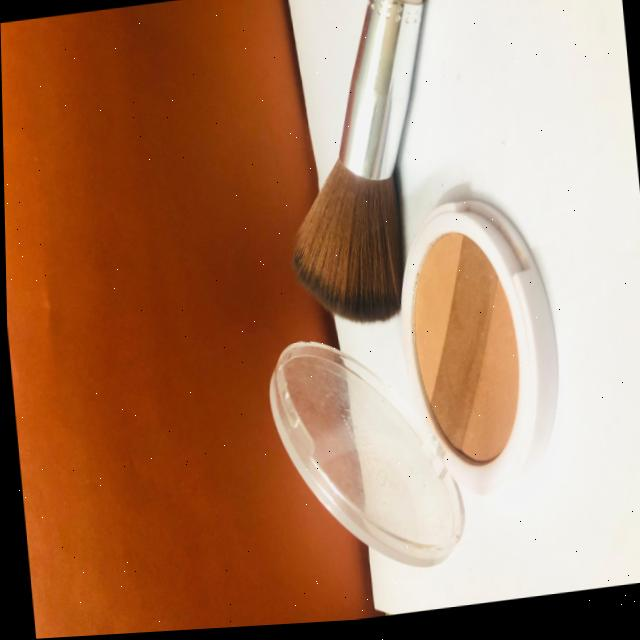bronzer: (382, 210, 559, 492)
brush: (252, 0, 407, 347)
